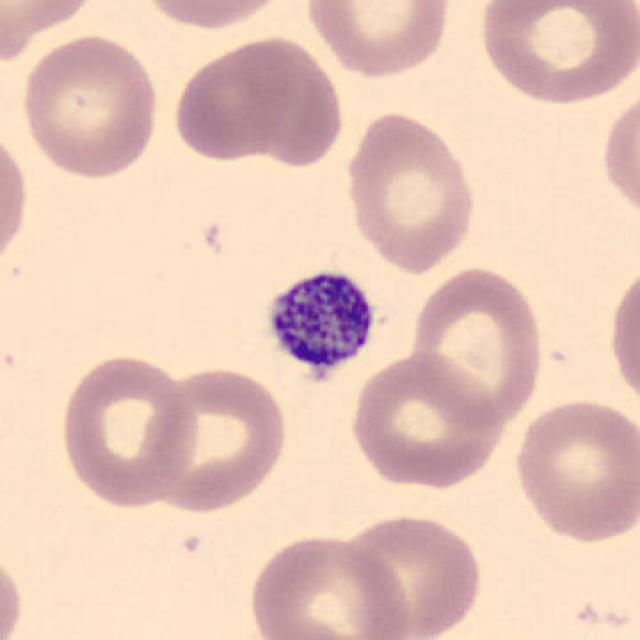Platelets: (252, 257, 382, 388)
RBC: (406, 261, 548, 428), (55, 349, 201, 511), (340, 108, 480, 275), (144, 362, 292, 516), (346, 349, 506, 490), (16, 30, 162, 182), (167, 34, 322, 165), (336, 506, 485, 638), (508, 395, 638, 546), (246, 529, 414, 640), (472, 0, 636, 109), (238, 30, 348, 171), (300, 0, 457, 81), (0, 0, 106, 63), (598, 83, 638, 227), (606, 257, 640, 418), (133, 0, 293, 33), (0, 122, 32, 278), (0, 541, 27, 640)
